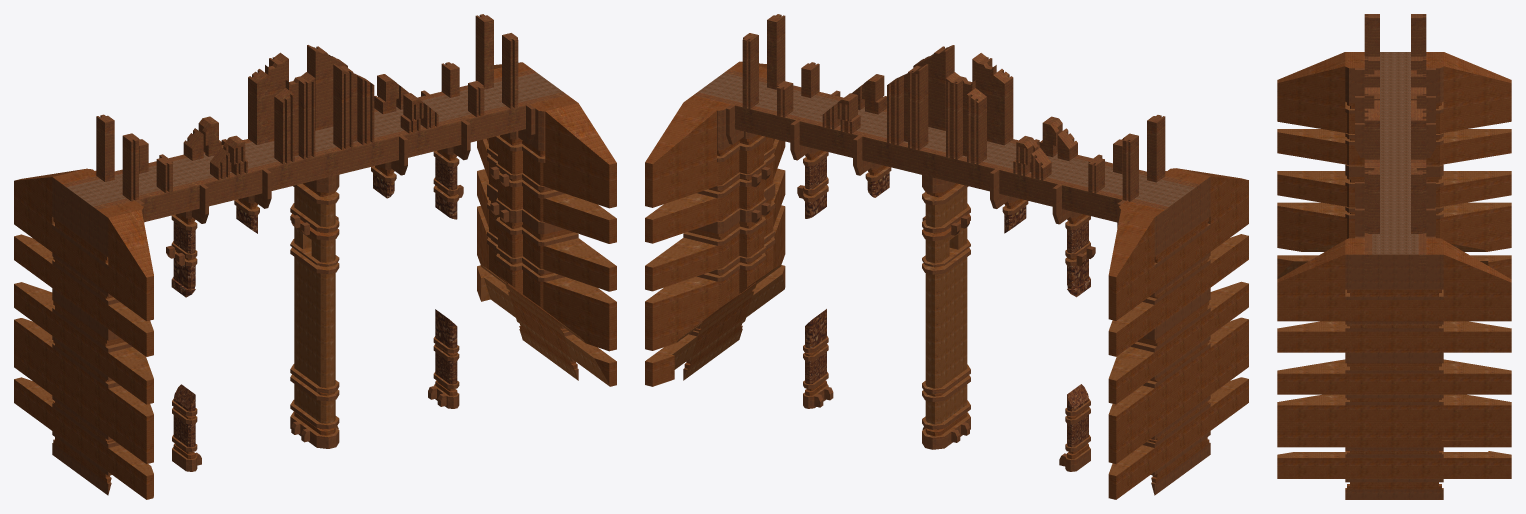
File: ForgBridge1.fbx
The picture shows the model from 3 angles, left to right: view 1: azimuth 30°, elevation 25°; view 2: azimuth 150°, elevation 25°; view 3: azimuth 270°, elevation 25°; orthographic projection. The views are drawn at different scales.
Visible parts, largest first — view 1: Object; view 2: Object; view 3: Object.
Boxes of the visible parts, bbox=[...] form: Object: bbox=[14, 14, 616, 499]; Object: bbox=[645, 14, 1248, 499]; Object: bbox=[1277, 14, 1511, 499].
Bounding box in the file's own units: 24800 × 18900 × 12100.
